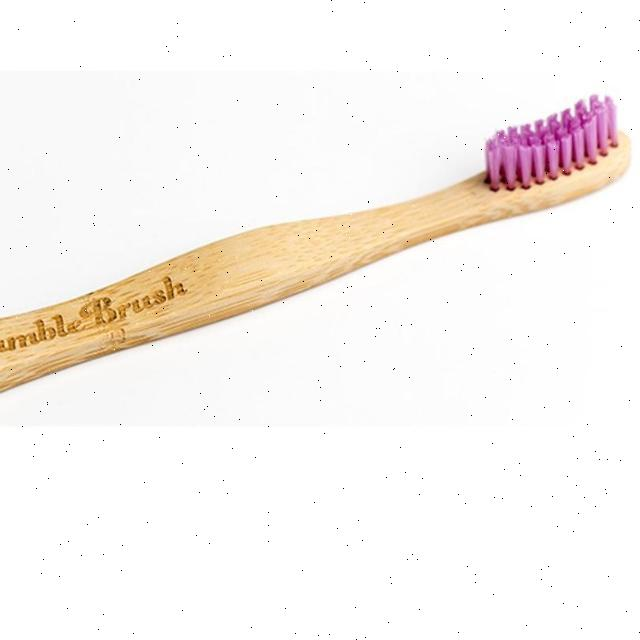toothbrush: (0, 88, 640, 430)
